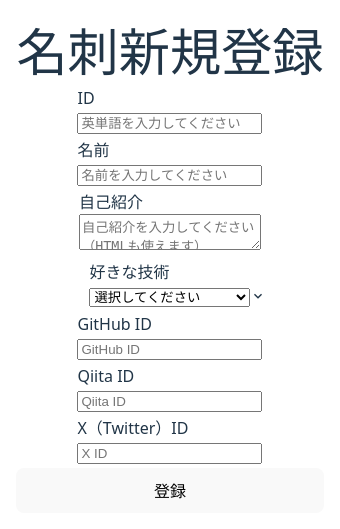
Test case: RegisterPage › 名前がないときにエラーメッセージがでる
Type "test-id" into the field with placeholder "英単語を入力してください".
click(170, 123); type("test-id")  # box 78,113 -> 262,134
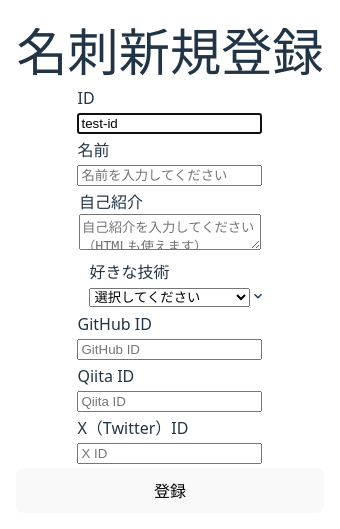
Type "紹介" into the text box with placeholder "自己紹介を入力してください（HTMLも使えます）".
click(170, 232); type("紹介")  # box 79,214 -> 261,250
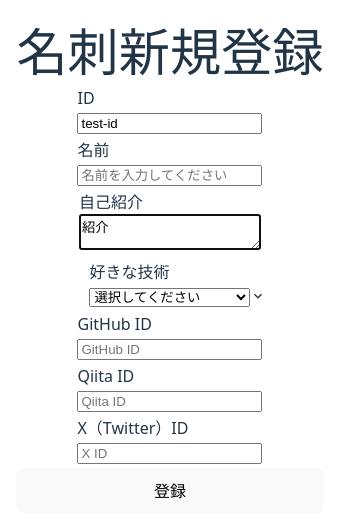
Click the button "登録".
click(170, 490)  # box 16,468 -> 324,513
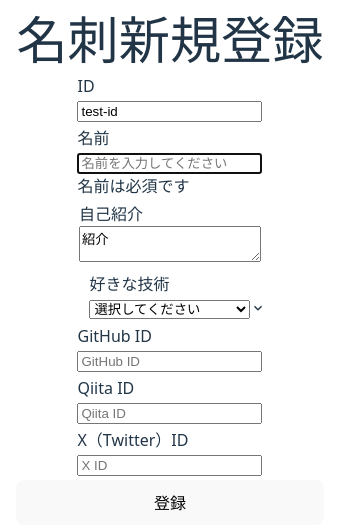
Result: the text "名前は必須です" is shown at 78,175 -> 190,197
